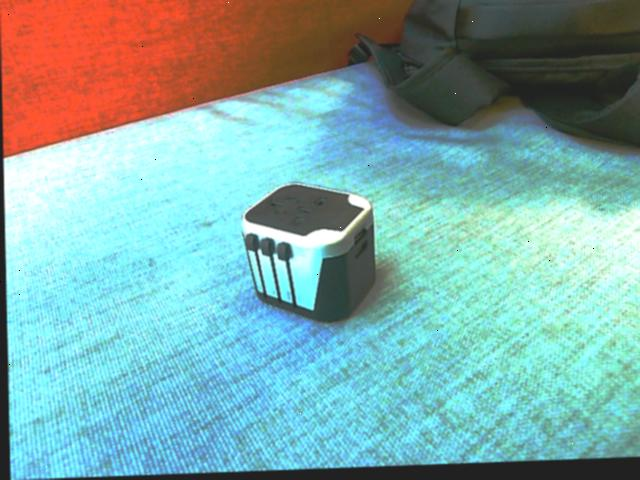adapter: (237, 183, 376, 328)
